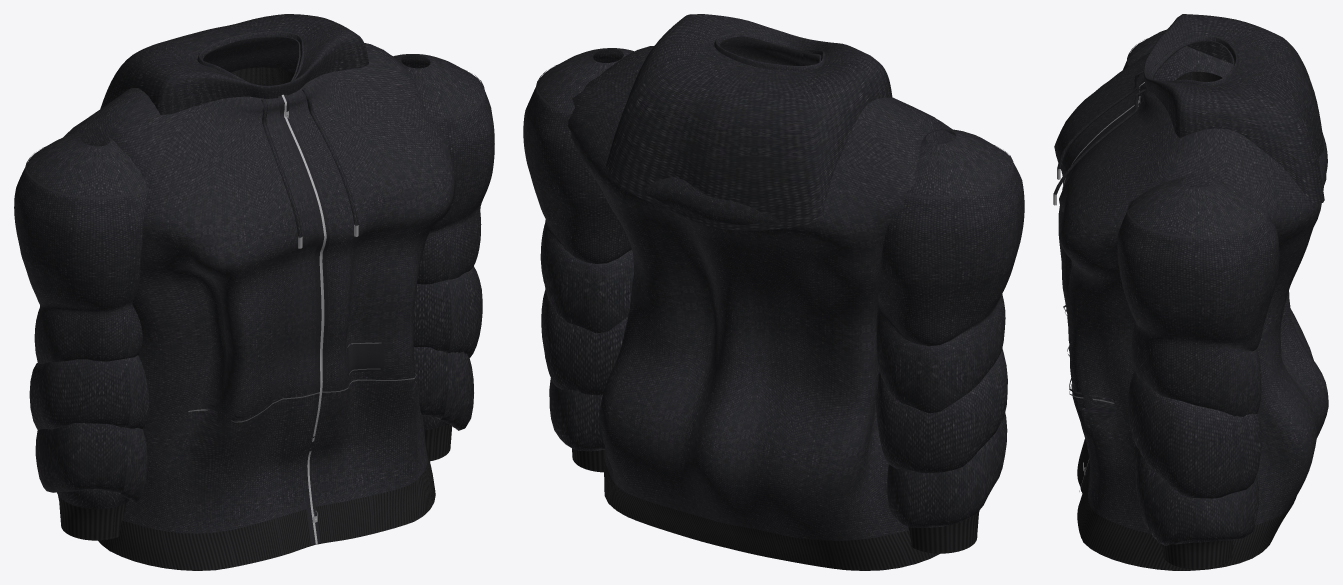
The model's file is mood-inside-vtg-hood-jacket.glb.
3 renders of one model, left to right at view 1: azimuth 30°, elevation 25°; view 2: azimuth 150°, elevation 25°; view 3: azimuth 270°, elevation 25°, orthographic. The views are drawn at different scales.
Parts seen in each view (by area): view 1: Measured garment body#0, Sleeve#23, Kangaroo pocket#6, Sleeve#27, Folded hood#3, Ribbed waistband#1, Zip tape#14, Sleeve cuff#25, Silver coil zipper#15, Patch label#20, Lined hood opening#4, Neck lining#5 (+4 smaller); view 2: Measured garment body#0, Sleeve#23, Folded hood#3, Sleeve#27, Ribbed waistband#1, Sleeve cuff#25, Lined hood opening#4; view 3: Measured garment body#0, Sleeve#27, Folded hood#3, Ribbed waistband#1, Sleeve#23, Sleeve cuff#29, Kangaroo pocket#6, Lined hood opening#4, Drawstring#12, Drawstring#10, Folded bottom hem#2, Dropped shoulder seam#28 (+1 smaller).
Part boxes in pixels (left/top/right/bottom): Measured garment body#0: left=63, top=36, right=455, bottom=533; Sleeve#23: left=14, top=132, right=149, bottom=509; Kangaroo pocket#6: left=187, top=370, right=419, bottom=527; Sleeve#27: left=393, top=54, right=494, bottom=430; Folded hood#3: left=100, top=14, right=368, bottom=114; Ribbed waistband#1: left=100, top=446, right=435, bottom=570; Zip tape#14: left=278, top=94, right=329, bottom=544; Sleeve cuff#25: left=58, top=495, right=126, bottom=538; Silver coil zipper#15: left=281, top=94, right=326, bottom=544; Patch label#20: left=347, top=340, right=384, bottom=378; Lined hood opening#4: left=197, top=31, right=304, bottom=82; Neck lining#5: left=231, top=67, right=294, bottom=85; Measured garment body#0: left=567, top=37, right=956, bottom=540; Sleeve#23: left=876, top=129, right=1024, bottom=528; Folded hood#3: left=606, top=14, right=892, bottom=230; Sleeve#27: left=523, top=48, right=633, bottom=451; Ribbed waistband#1: left=604, top=457, right=935, bottom=570; Sleeve cuff#25: left=908, top=510, right=979, bottom=551; Lined hood opening#4: left=714, top=32, right=825, bottom=70; Measured garment body#0: left=1054, top=40, right=1328, bottom=533; Sleeve#27: left=1117, top=176, right=1279, bottom=545; Folded hood#3: left=1143, top=14, right=1326, bottom=203; Ribbed waistband#1: left=1077, top=438, right=1296, bottom=570; Sleeve#23: left=1123, top=29, right=1232, bottom=81; Sleeve cuff#29: left=1161, top=540, right=1233, bottom=567; Kangaroo pocket#6: left=1066, top=309, right=1116, bottom=508; Lined hood opening#4: left=1151, top=36, right=1238, bottom=85; Drawstring#12: left=1053, top=89, right=1145, bottom=194; Drawstring#10: left=1057, top=70, right=1143, bottom=168; Folded bottom hem#2: left=1077, top=467, right=1270, bottom=570; Dropped shoulder seam#28: left=1127, top=201, right=1267, bottom=238.
Bounding box in the file's own units: 0.694 × 0.6624 × 0.3744.
Materials: 6 (4 with a texture image).
